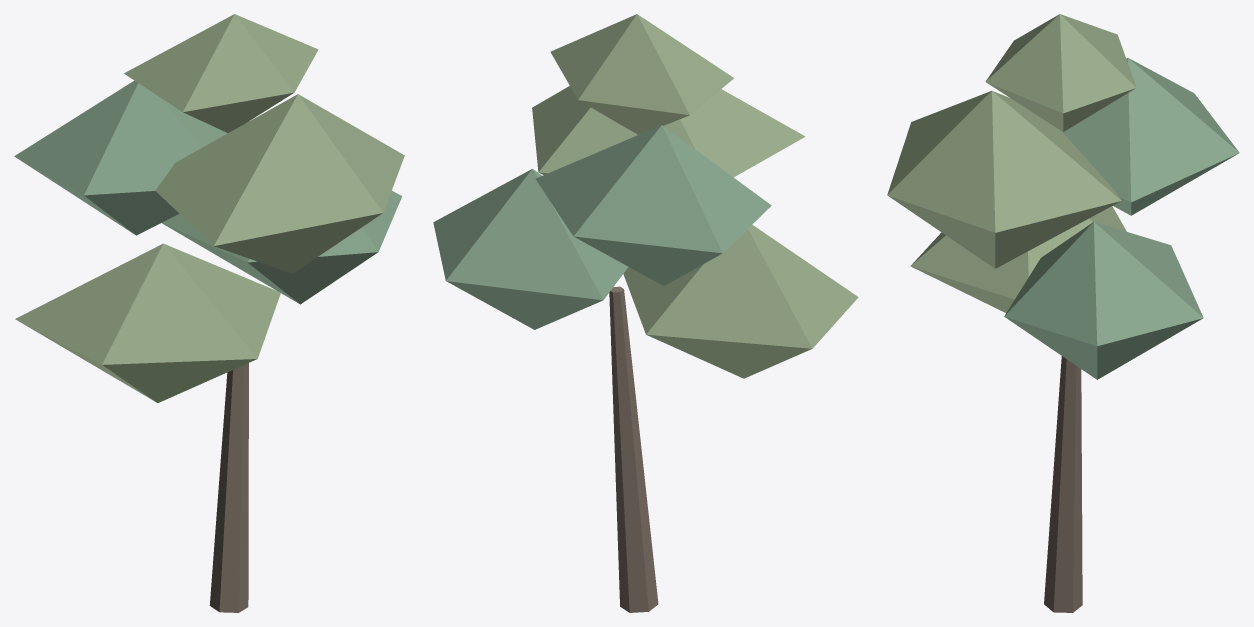
The picture shows the model from 3 angles, left to right: view 1: azimuth 30°, elevation 25°; view 2: azimuth 150°, elevation 25°; view 3: azimuth 270°, elevation 25°; orthographic projection.
Size of the model in its own units: 13.07 by 19.29 by 10.38.
